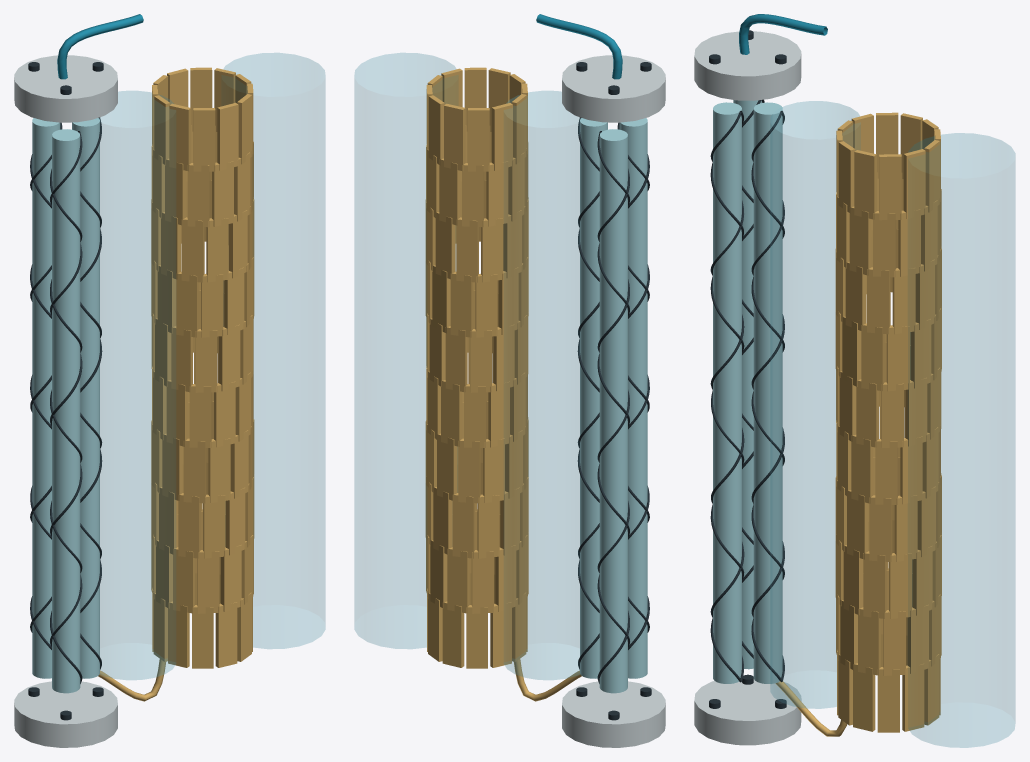
File: VSCA-schematic.glb
3 renders of one model, left to right at view 1: azimuth 30°, elevation 25°; view 2: azimuth 150°, elevation 25°; view 3: azimuth 330°, elevation 25°, orthographic. The views are drawn at different scales.
Visible parts, largest first — view 1: PET 襟翼 (×53), 硅胶基体, 密封外膜, PAM 2, 端盖 (×2), PAM 3, PAM 1, PAM 编织网 (×6), 正压气路, 真空气路; view 2: PET 襟翼 (×52), 硅胶基体, 密封外膜, PAM 3, 端盖 (×2), PAM 2, PAM 1, PAM 编织网 (×6), 正压气路, 真空气路; view 3: PET 襟翼 (×53), 密封外膜, 硅胶基体, PAM 1, PAM 2, 端盖 (×2), PAM 3, PAM 编织网 (×4), 正压气路, 真空气路.
Boxes of the visible parts, x1,y1,x2,y2 form: PET 襟翼 (×53): [151, 67, 254, 668]; 硅胶基体: [99, 91, 175, 679]; 密封外膜: [224, 53, 325, 648]; PAM 2: [52, 129, 80, 693]; 端盖 (×2): [14, 55, 117, 747]; PAM 3: [32, 118, 60, 678]; PAM 1: [72, 118, 99, 678]; PAM 编织网 (×6): [30, 117, 102, 683]; 正压气路: [57, 14, 143, 79]; 真空气路: [98, 659, 165, 701]; PET 襟翼 (×52): [426, 67, 528, 668]; 硅胶基体: [504, 91, 580, 679]; 密封外膜: [354, 53, 455, 648]; PAM 3: [599, 129, 627, 693]; 端盖 (×2): [562, 55, 665, 747]; PAM 2: [619, 118, 647, 678]; PAM 1: [580, 118, 607, 678]; PAM 编织网 (×6): [577, 117, 649, 683]; 正压气路: [536, 14, 622, 79]; 真空气路: [514, 659, 581, 701]; PET 襟翼 (×53): [836, 112, 941, 732]; 密封外膜: [908, 133, 1015, 747]; 硅胶基体: [770, 101, 860, 708]; PAM 1: [753, 102, 782, 683]; PAM 2: [713, 102, 741, 683]; 端盖 (×2): [694, 31, 801, 745]; PAM 3: [733, 100, 762, 669]; PAM 编织网 (×4): [710, 111, 784, 682]; 正压气路: [739, 14, 827, 54]; 真空气路: [775, 681, 847, 736].
Bounding box in the file's own units: 1.58 × 3.52 × 0.484.
